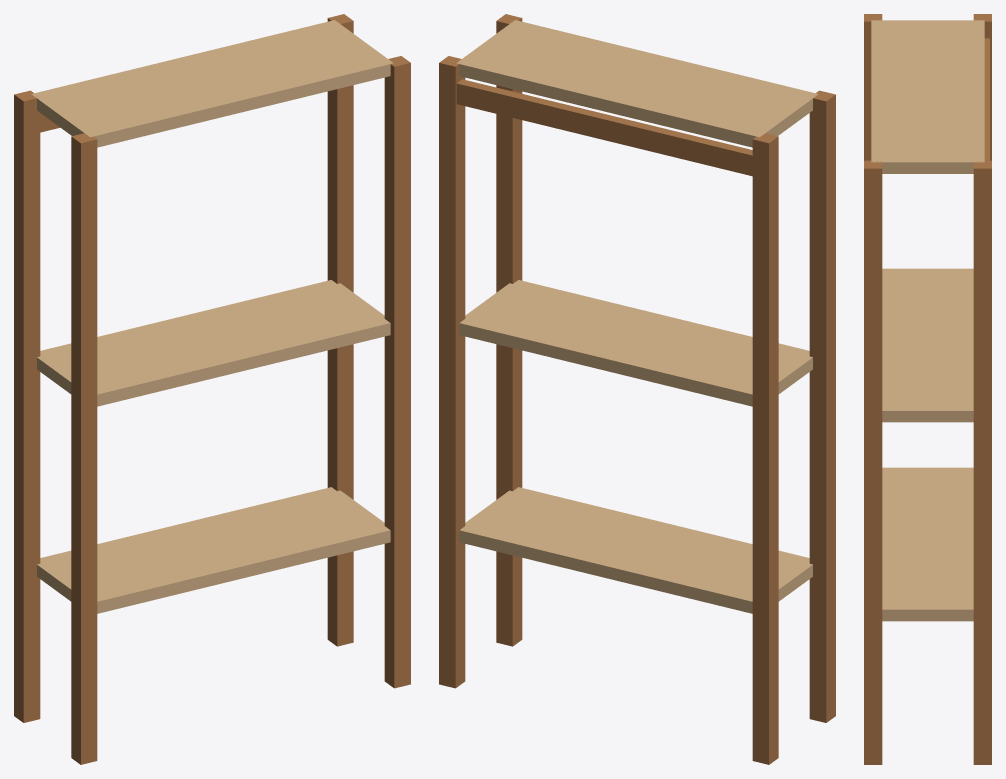
3 renders of one model, left to right at view 1: azimuth 30°, elevation 25°; view 2: azimuth 150°, elevation 25°; view 3: azimuth 270°, elevation 25°, orthographic. The views are drawn at different scales.
Visible parts, largest first — view 1: shelf-board-top, shelf-board-lower, shelf-board-middle, frame-post-left-front, frame-post-left-rear, frame-post-right-front, frame-post-right-rear; view 2: shelf-board-top, shelf-board-lower, shelf-board-middle, frame-post-left-rear, frame-post-left-front, frame-post-right-rear, frame-post-right-front, frame-rear-rail; view 3: shelf-board-top, shelf-board-lower, shelf-board-middle, frame-post-right-front, frame-post-right-rear, frame-post-left-front, frame-rear-rail, frame-post-left-rear.
Boxes of the visible parts, x1,y1,x2,y2 form: shelf-board-top: [31, 20, 393, 147]; shelf-board-lower: [37, 487, 390, 613]; shelf-board-middle: [37, 280, 390, 406]; frame-post-left-front: [71, 133, 97, 764]; frame-post-left-rear: [14, 90, 40, 722]; frame-post-right-front: [384, 56, 410, 688]; frame-post-right-rear: [327, 14, 353, 646]; shelf-board-top: [456, 20, 818, 147]; shelf-board-lower: [459, 487, 812, 613]; shelf-board-middle: [459, 280, 812, 406]; frame-post-left-rear: [752, 133, 778, 764]; frame-post-left-front: [809, 90, 835, 722]; frame-post-right-rear: [439, 56, 465, 688]; frame-post-right-front: [496, 14, 522, 646]; frame-rear-rail: [456, 79, 752, 176]; shelf-board-top: [871, 20, 984, 173]; shelf-board-lower: [882, 467, 973, 621]; shelf-board-middle: [882, 268, 973, 422]; frame-post-right-front: [864, 160, 882, 764]; frame-post-right-rear: [973, 160, 991, 764]; frame-post-left-front: [864, 14, 882, 160]; frame-rear-rail: [984, 38, 989, 160]; frame-post-left-rear: [973, 14, 991, 160].
Size of the model in its own units: 1 by 1.8 by 0.35.
